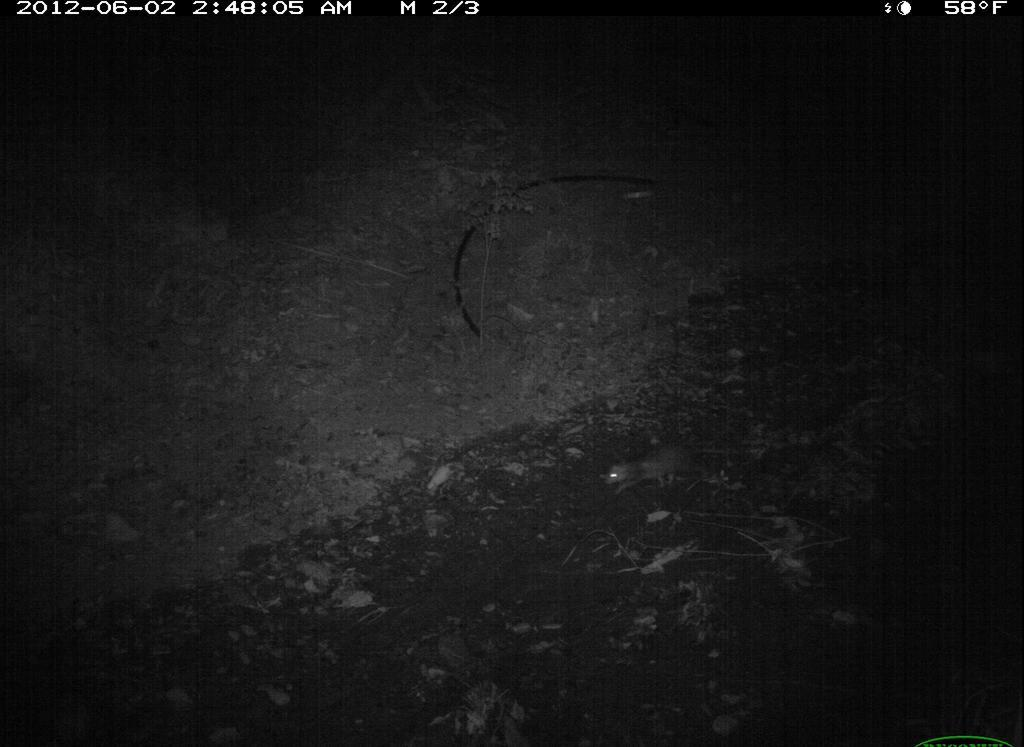opossum: (597, 431, 732, 508)
